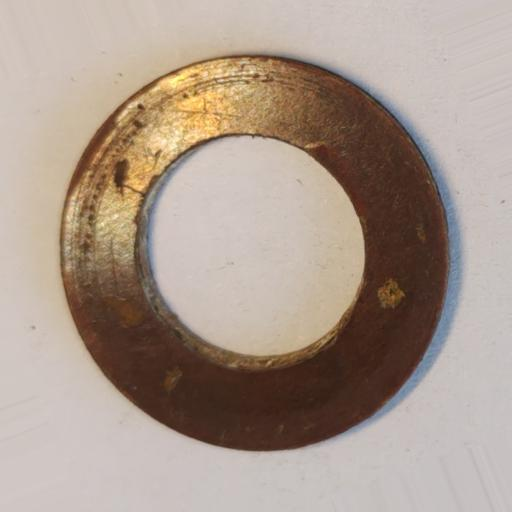defect: (376, 279, 405, 311)
